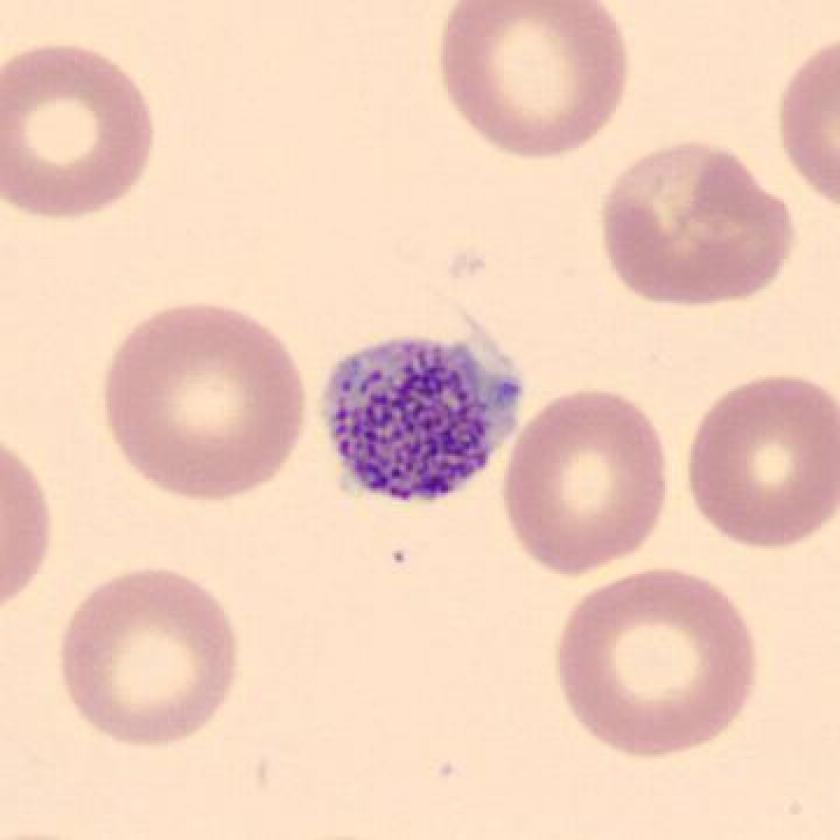platelets: (314, 306, 535, 524)
